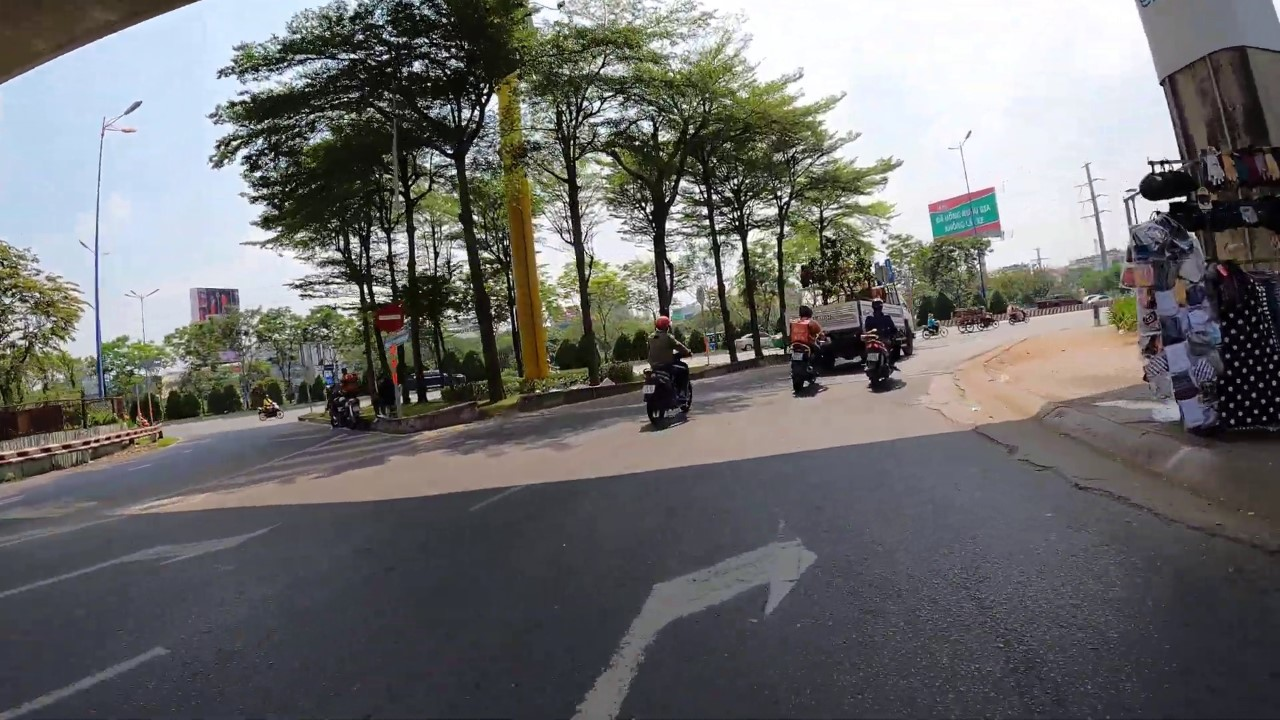cam_nguoc_chieu: (376, 304, 404, 332)
